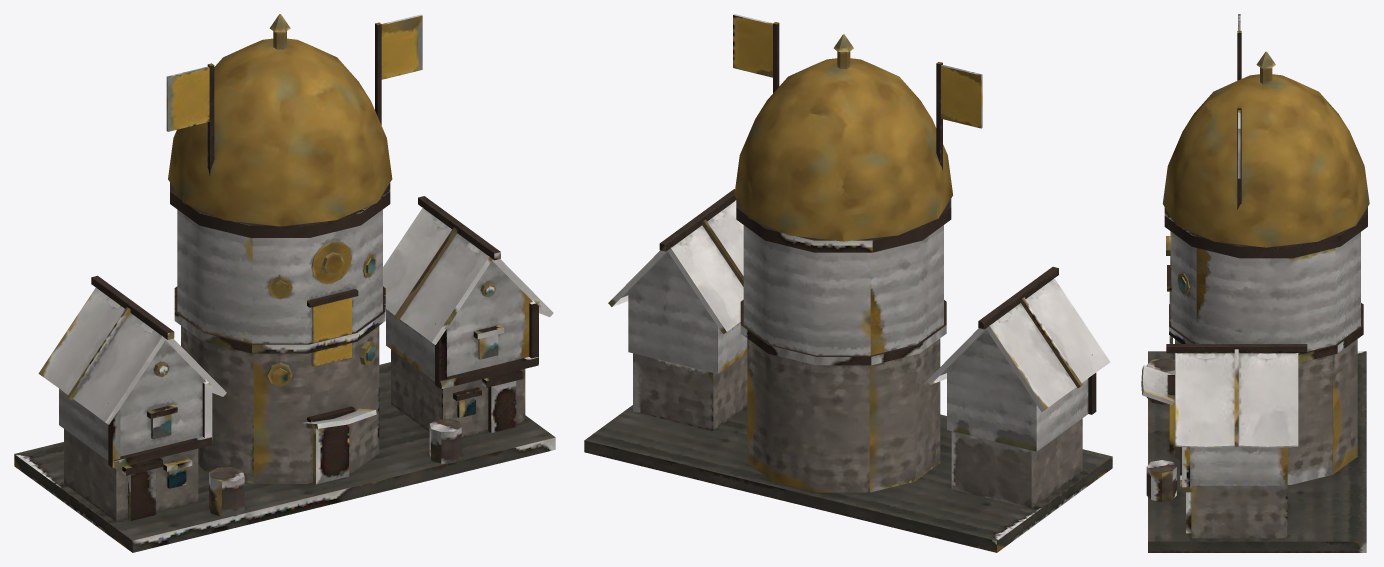
File: pirate_stone_capital_guilds.glb
3 views of the same model, side by side, from view 1: azimuth 30°, elevation 25°; view 2: azimuth 150°, elevation 25°; view 3: azimuth 270°, elevation 25° (orthographic). The views are drawn at different scales.
Parts seen in each view (by area): view 1: FixedDetails, WoodBody, BrassTrim; view 2: FixedDetails, WoodBody, BrassTrim; view 3: FixedDetails, WoodBody, BrassTrim.
Part boxes in pixels (x1,y1,x2,y2): FixedDetails: (14,14,555,552); WoodBody: (38,207,553,460); BrassTrim: (153,14,495,386); FixedDetails: (584,14,1112,552); WoodBody: (608,200,1110,451); BrassTrim: (734,34,952,241); FixedDetails: (1146,14,1367,552); WoodBody: (1141,232,1360,485); BrassTrim: (1162,51,1369,294).
Size of the model in its own units: 0.5446 by 0.502 by 0.256.
Materials: 3 (3 with a texture image).
